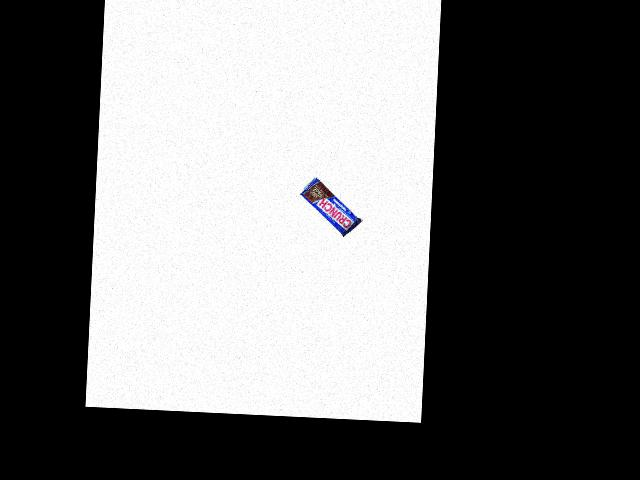chocolate: (296, 175, 365, 238)
